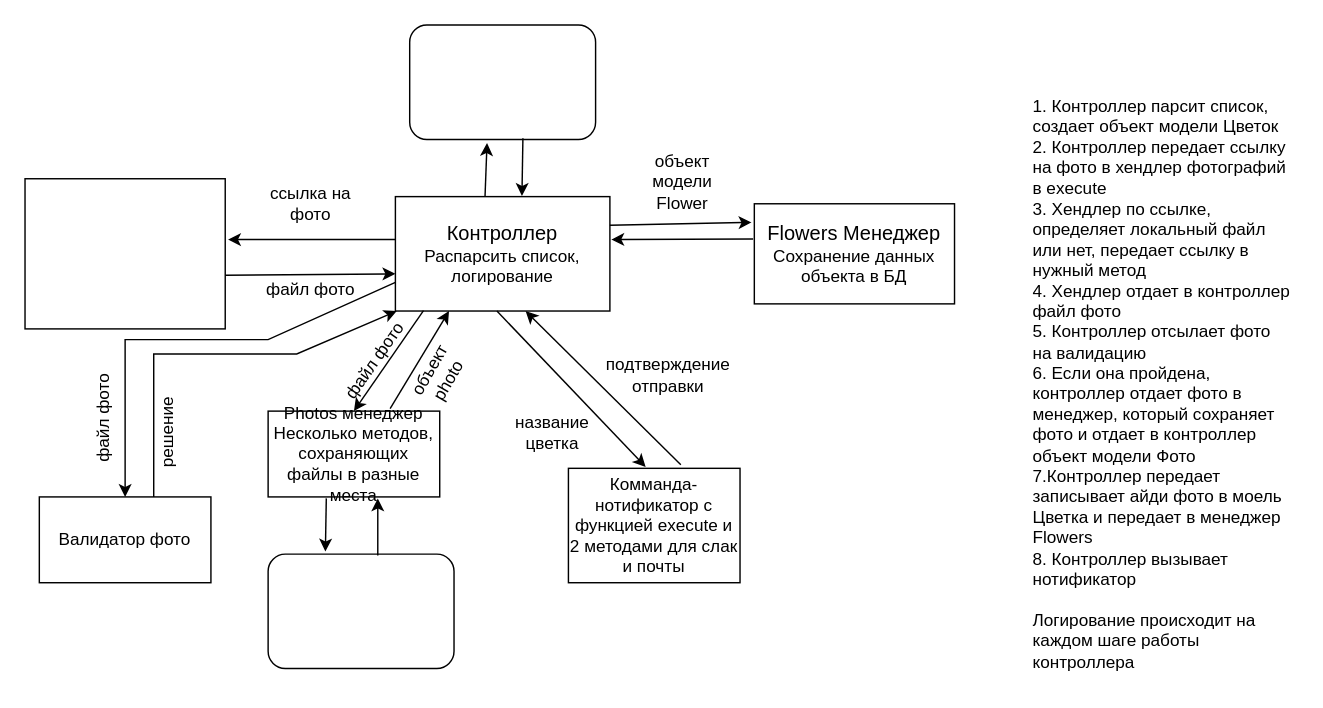
Some shapes in this 1323 by 708 pixel diagram are drawn without their labels. The centre of each missing label's shape, as x and y in pixels:
"Photos хендлер С несколькими методами для скачивания файлов из разных источников" belongs at point (124, 253).
"Модель Flower содержит все поля (title, desc и т.д)" belongs at point (502, 81).
"Модель Photo: id, наименование файла, хранилище, местоположение файла" belongs at point (360, 611).
